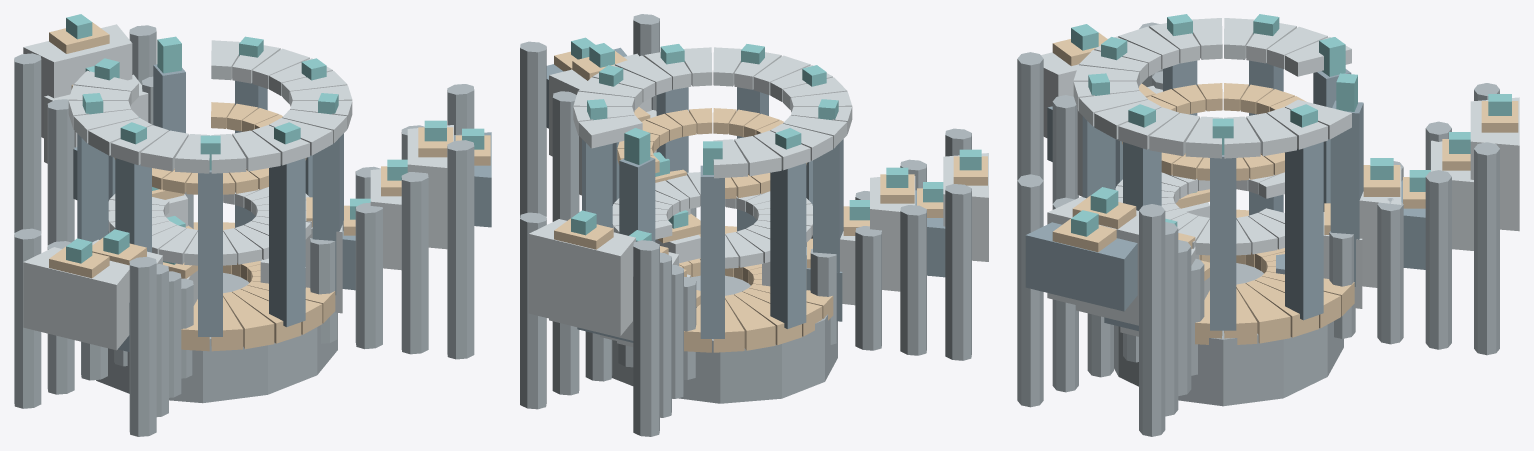
Rendered from a19_b_trifurcated_commons.glb.
3 views of the same model, side by side, from view 1: azimuth 30°, elevation 25°; view 2: azimuth 150°, elevation 25°; view 3: azimuth 270°, elevation 25° (orthographic). The views are drawn at different scales.
Visible parts, largest first — view 1: G4C7_A19_SCOUT_ART_HOLD; view 2: G4C7_A19_SCOUT_ART_HOLD; view 3: G4C7_A19_SCOUT_ART_HOLD.
Part boxes in pixels (left/top/right/bottom): G4C7_A19_SCOUT_ART_HOLD: left=14, top=14, right=491, bottom=436; G4C7_A19_SCOUT_ART_HOLD: left=520, top=14, right=988, bottom=436; G4C7_A19_SCOUT_ART_HOLD: left=1017, top=14, right=1519, bottom=436.
Size of the model in its own units: 217 by 117 by 191.
